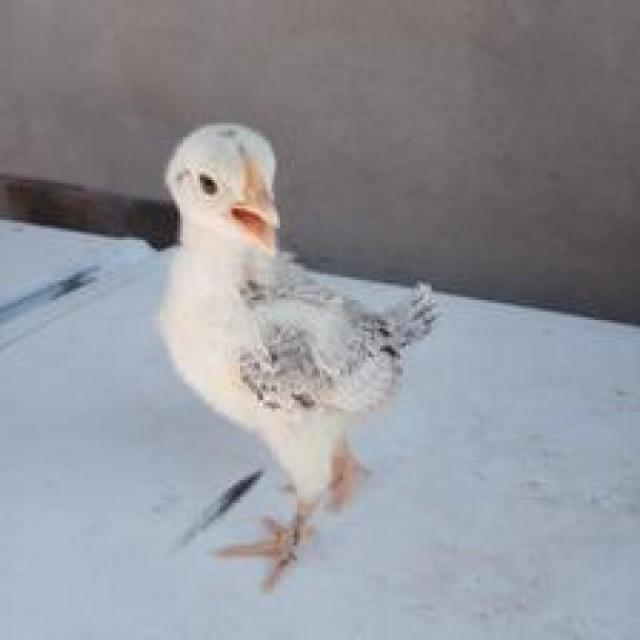Chicken: (150, 100, 507, 629)
